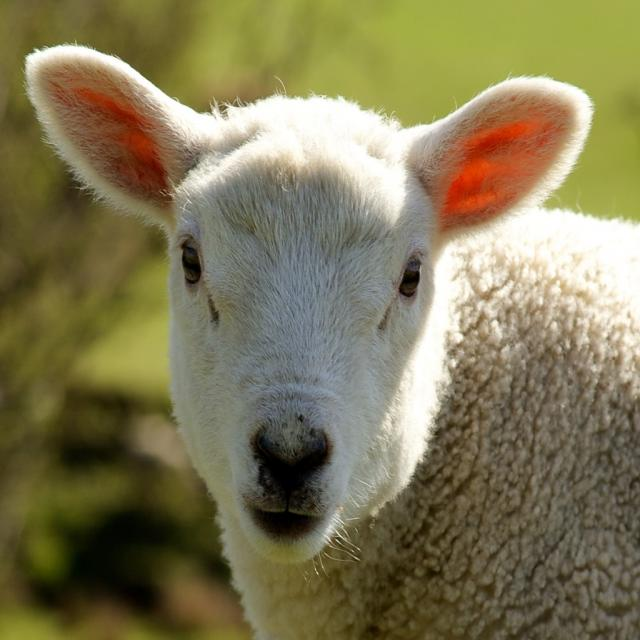Sheep: (20, 41, 640, 640)
